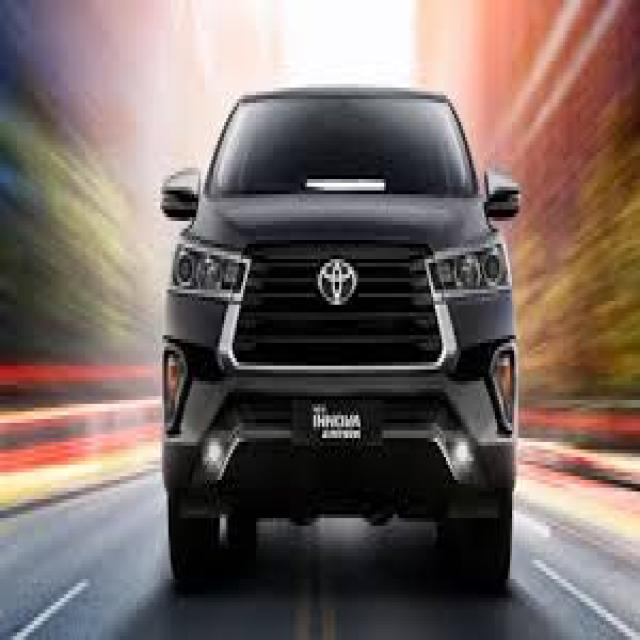light_vehicle: (159, 84, 520, 586)
